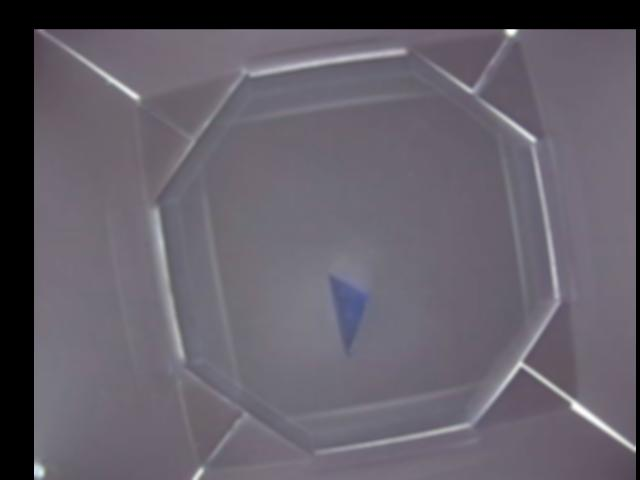Mooli: (326, 271, 369, 353)
